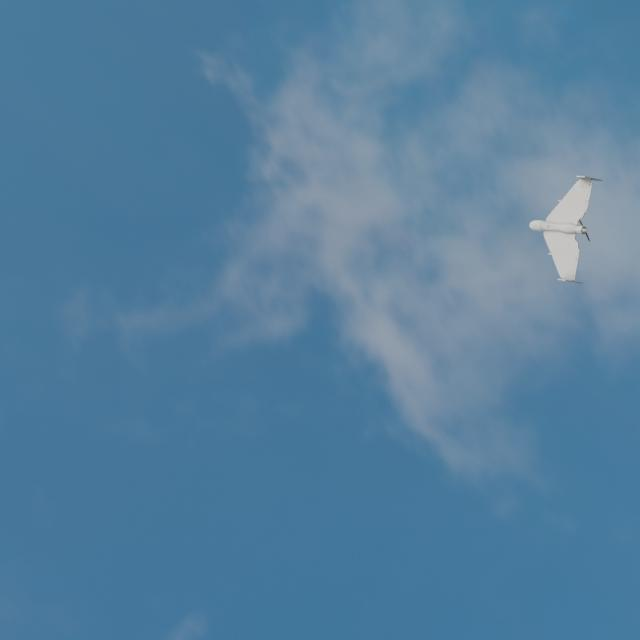Airaplan: (530, 176, 603, 284)
